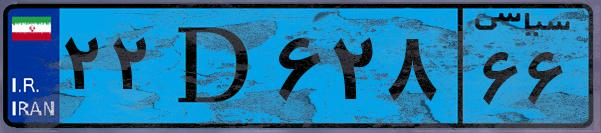2: (330, 28, 385, 110), (57, 26, 110, 100), (110, 28, 158, 98)
6: (270, 28, 330, 110), (475, 38, 525, 113), (525, 38, 570, 115)
8: (385, 28, 445, 110)
D: (158, 12, 270, 120)
